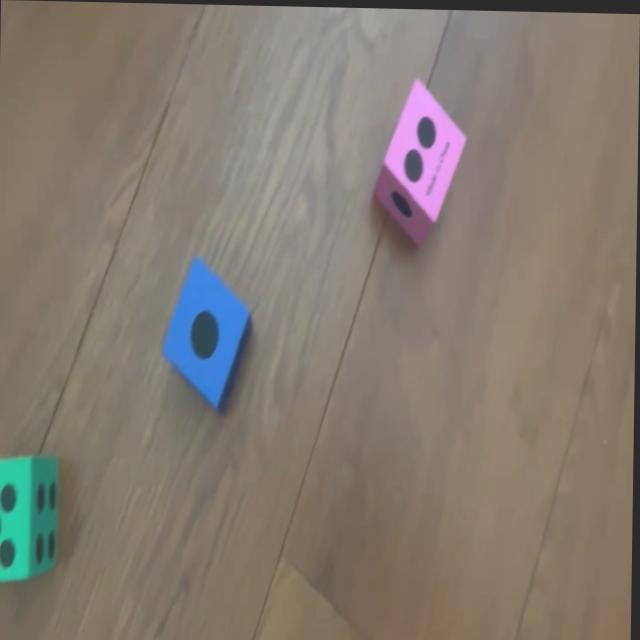blue_block: (162, 258, 252, 410)
